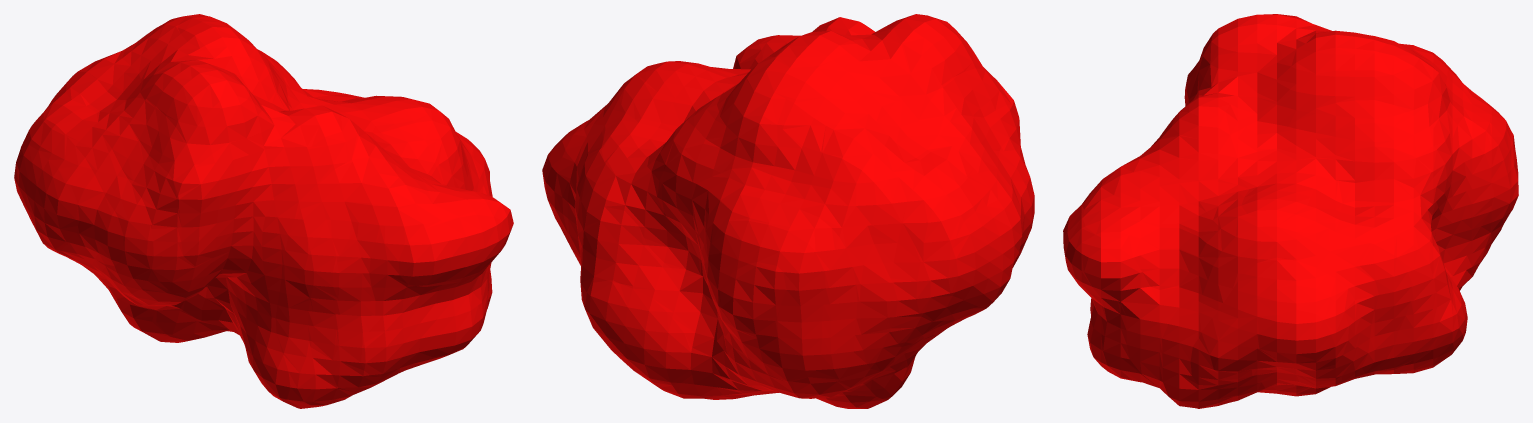
Rendered from aroE_coarse.dae.
The picture shows the model from 3 angles, left to right: view 1: azimuth 30°, elevation 25°; view 2: azimuth 150°, elevation 25°; view 3: azimuth 270°, elevation 25°; orthographic projection. The views are drawn at different scales.
Visible parts, largest first — view 1: aroE; view 2: aroE; view 3: aroE.
Boxes of the visible parts, x1=… form: aroE: x1=14, y1=14, x2=513, y2=408; aroE: x1=542, y1=14, x2=1034, y2=408; aroE: x1=1063, y1=14, x2=1518, y2=408.
Size of the model in its own units: 58.62 by 43.57 by 55.3.
